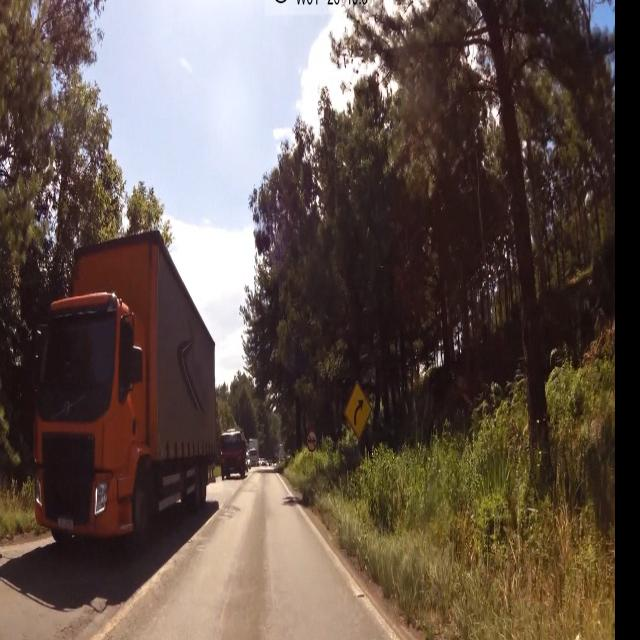A-2b: (346, 382, 371, 438)
